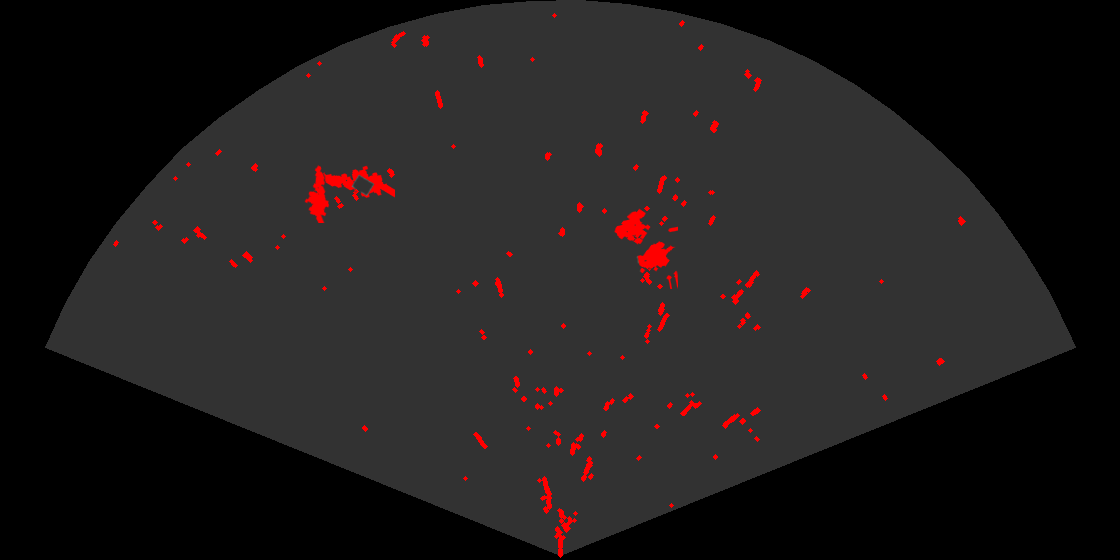cage: (613, 207, 678, 289)
frogman: (316, 164, 395, 199), (303, 163, 331, 223)
